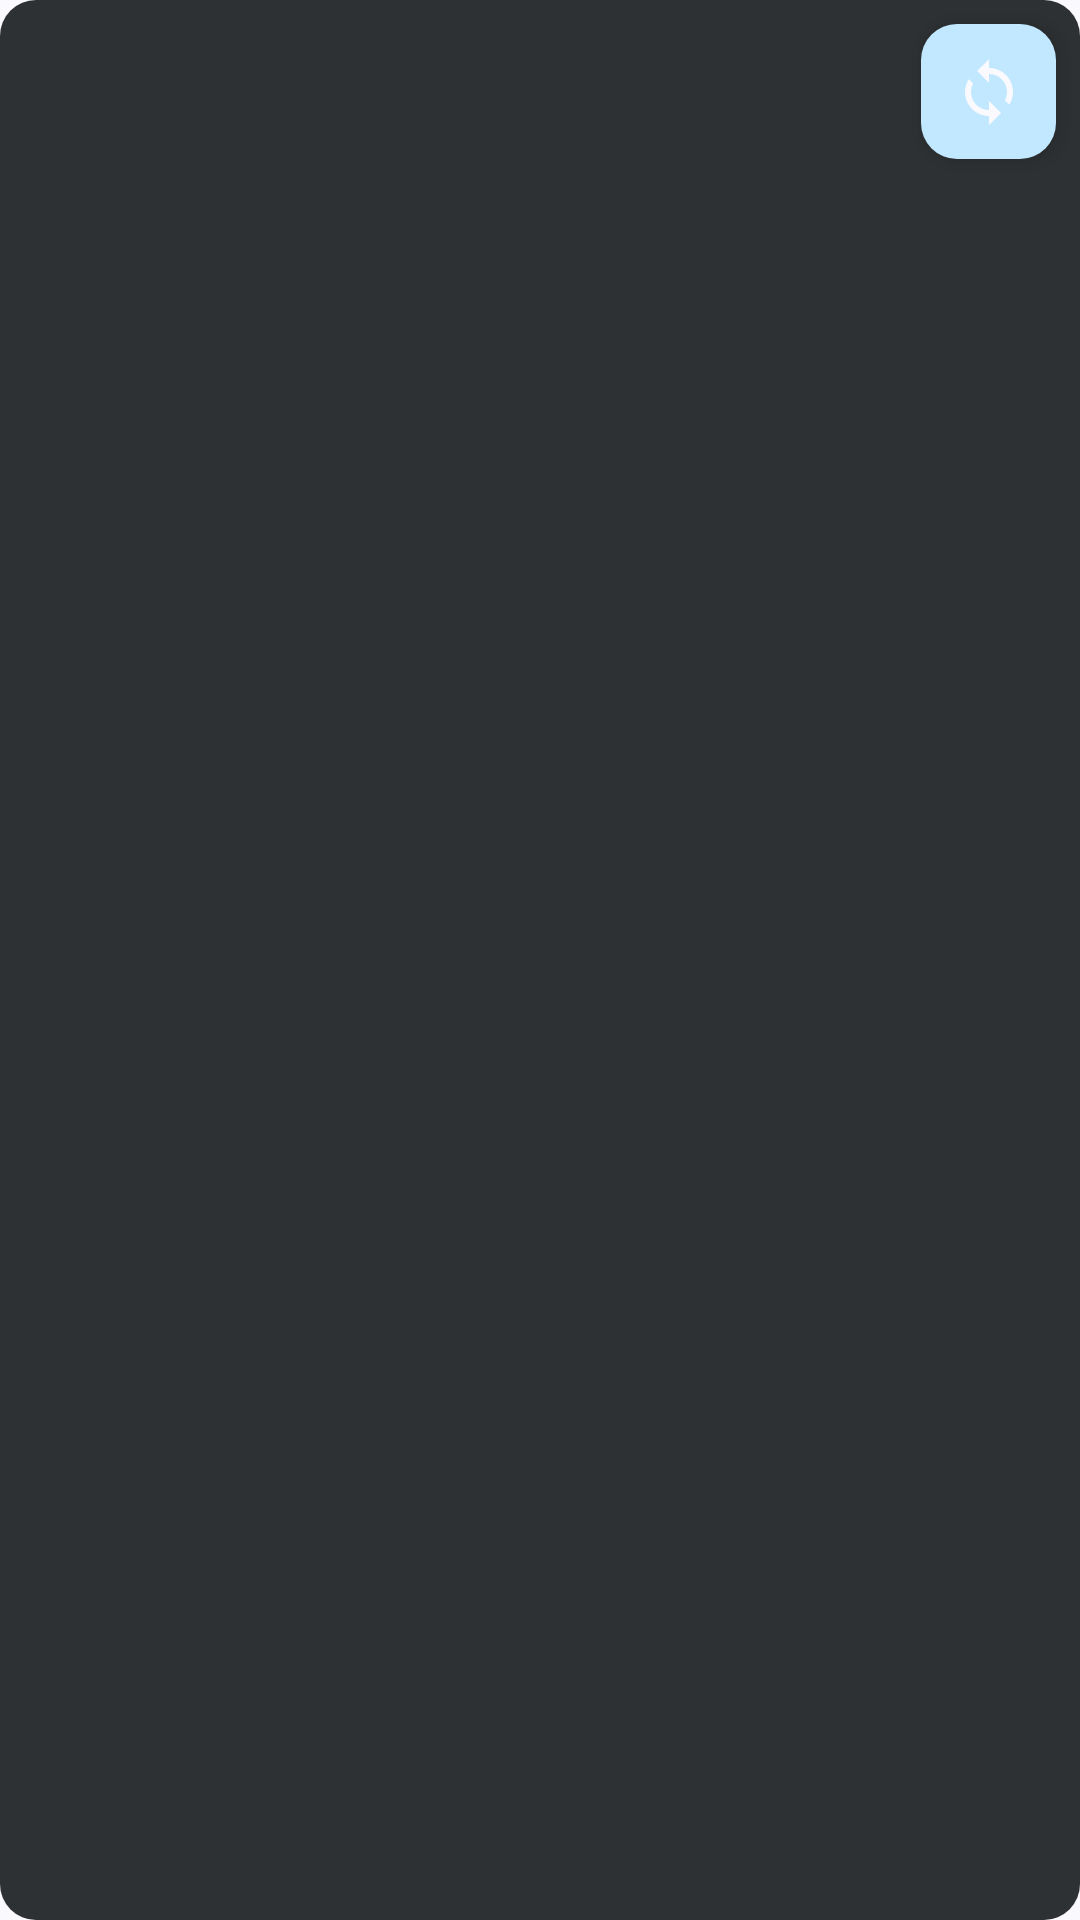

Icons on this 1080 × 1920 Android screen, each with the point to tap as point (x, y):
Refresh: point (988, 91)
